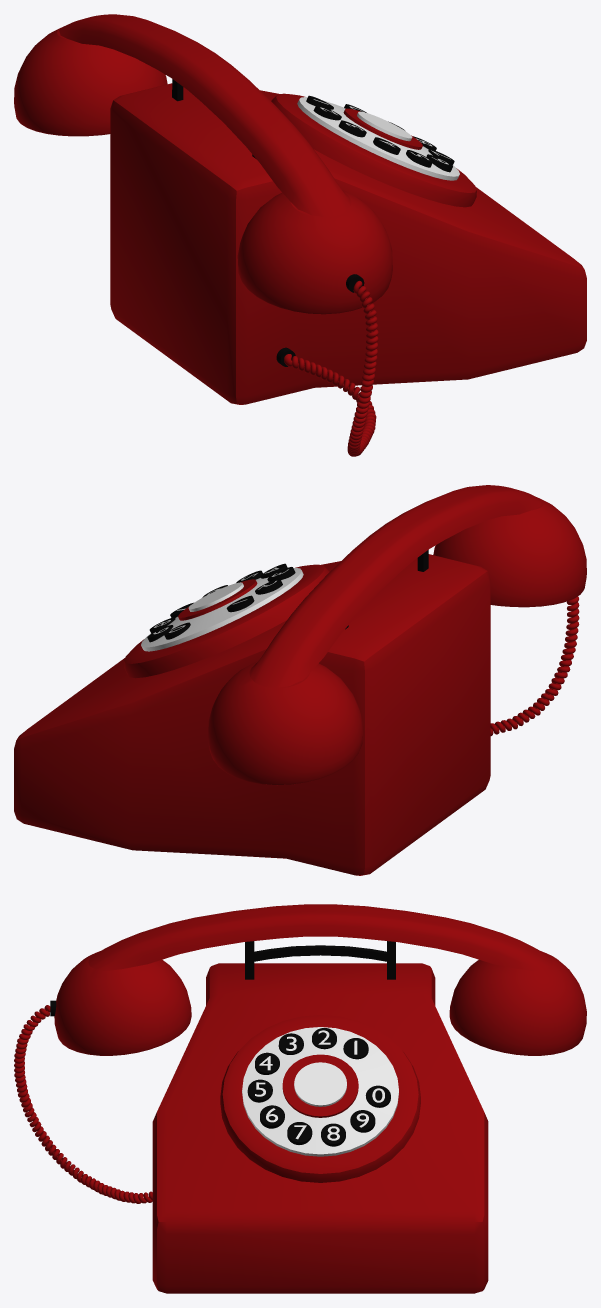
File: Telephone.glb
3 renders of one model, top to bottom at view 1: azimuth 30°, elevation 25°; view 2: azimuth 150°, elevation 25°; view 3: azimuth 270°, elevation 25°, orthographic. The views are drawn at different scales.
Parts seen in each view (by area): view 1: Cube, Sphere, Cylinder, Circle, Cylinder.001; view 2: Cube, Sphere, Cylinder, Circle, Cylinder.001; view 3: Cube, Sphere, Cylinder, Cylinder.001, Circle, Cube.001.
Part boxes in pixels (box(x1,y1,x2,y2)): Cube: box(110, 83, 586, 404); Sphere: box(14, 14, 392, 314); Cylinder: box(271, 93, 476, 207); Circle: box(284, 280, 378, 456); Cylinder.001: box(306, 95, 454, 172); Cube: box(14, 554, 490, 875); Sphere: box(208, 485, 586, 785); Cylinder: box(124, 564, 329, 678); Circle: box(490, 596, 579, 735); Cylinder.001: box(147, 563, 295, 642); Cube: box(152, 963, 488, 1293); Sphere: box(54, 904, 586, 1055); Cylinder: box(220, 1015, 420, 1182); Cylinder.001: box(247, 1028, 390, 1146); Circle: box(14, 1005, 152, 1203); Cube.001: box(245, 941, 395, 979).
Size of the model in its own units: 2.2 by 1.77 by 3.41.
